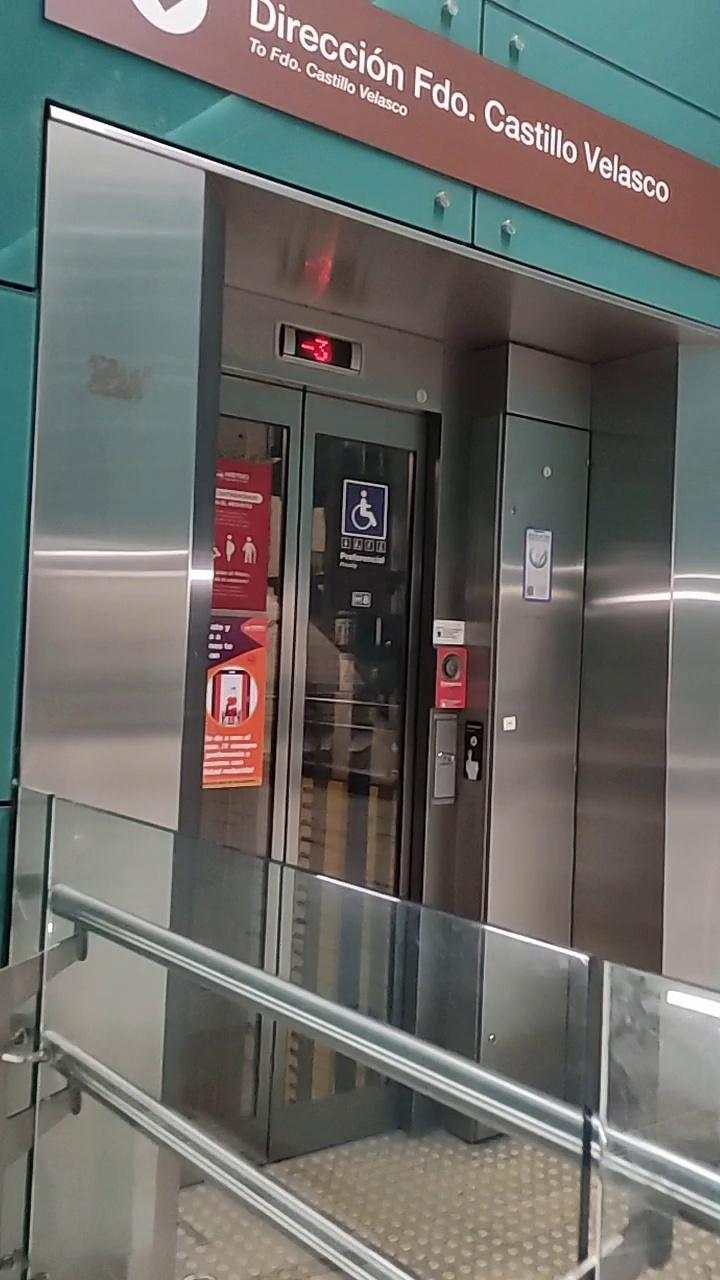handicapped symbol: (350, 489, 378, 532)
